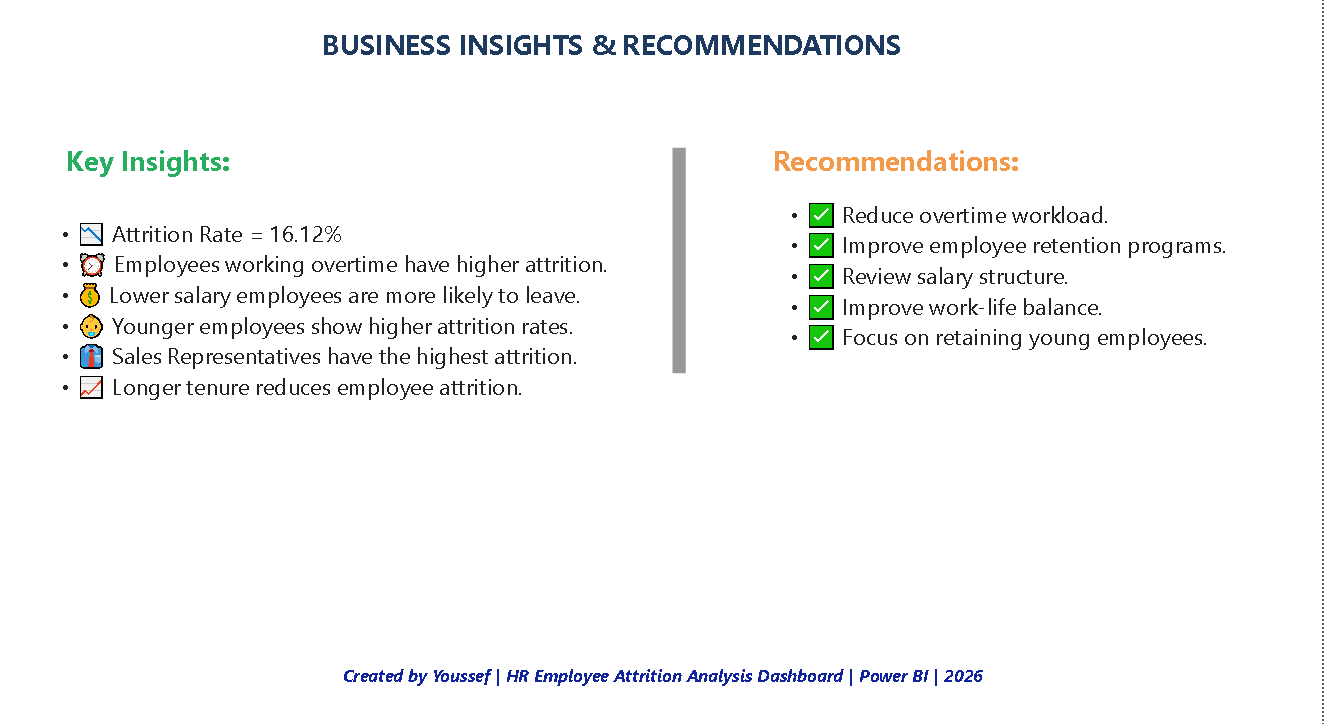

The page's visual inventory and layout, read from the dashboard file:
{"tool":"powerbi","page":{"name":"Insight","canvas":[1280,720],"ordinal":1},"visuals":[{"type":"textbox","box":[297.5,30,595,57.5],"z":0},{"type":"textbox","box":[42.5,142.5,597.5,300],"z":1000},{"type":"textbox","box":[745.9,142.8,461.7,318.9],"z":2000},{"type":"shape","box":[653.6,152.9,13,217.9],"z":3000},{"type":"textbox","box":[330.4,644.9,669.4,49.1],"z":4000}]}

Visuals, with their boxes on the page's 1280x720 design canvas (x1, y1, x2, y2). These are canvas units, not pixel positions in the 1328x724 screenshot, which may show the page scaled, cropped or inside an application window:
textbox: pyautogui.locateOnScreen(298, 30, 892, 88)
textbox: pyautogui.locateOnScreen(42, 142, 640, 442)
textbox: pyautogui.locateOnScreen(746, 143, 1208, 462)
shape: pyautogui.locateOnScreen(654, 153, 667, 371)
textbox: pyautogui.locateOnScreen(330, 645, 1000, 694)
